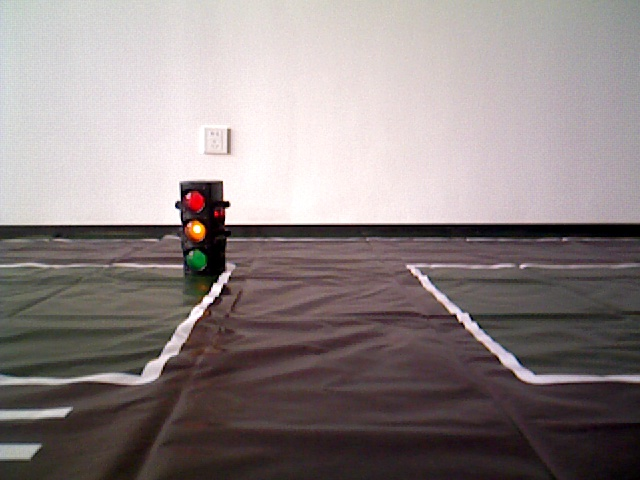yellow: (182, 183, 227, 270)
